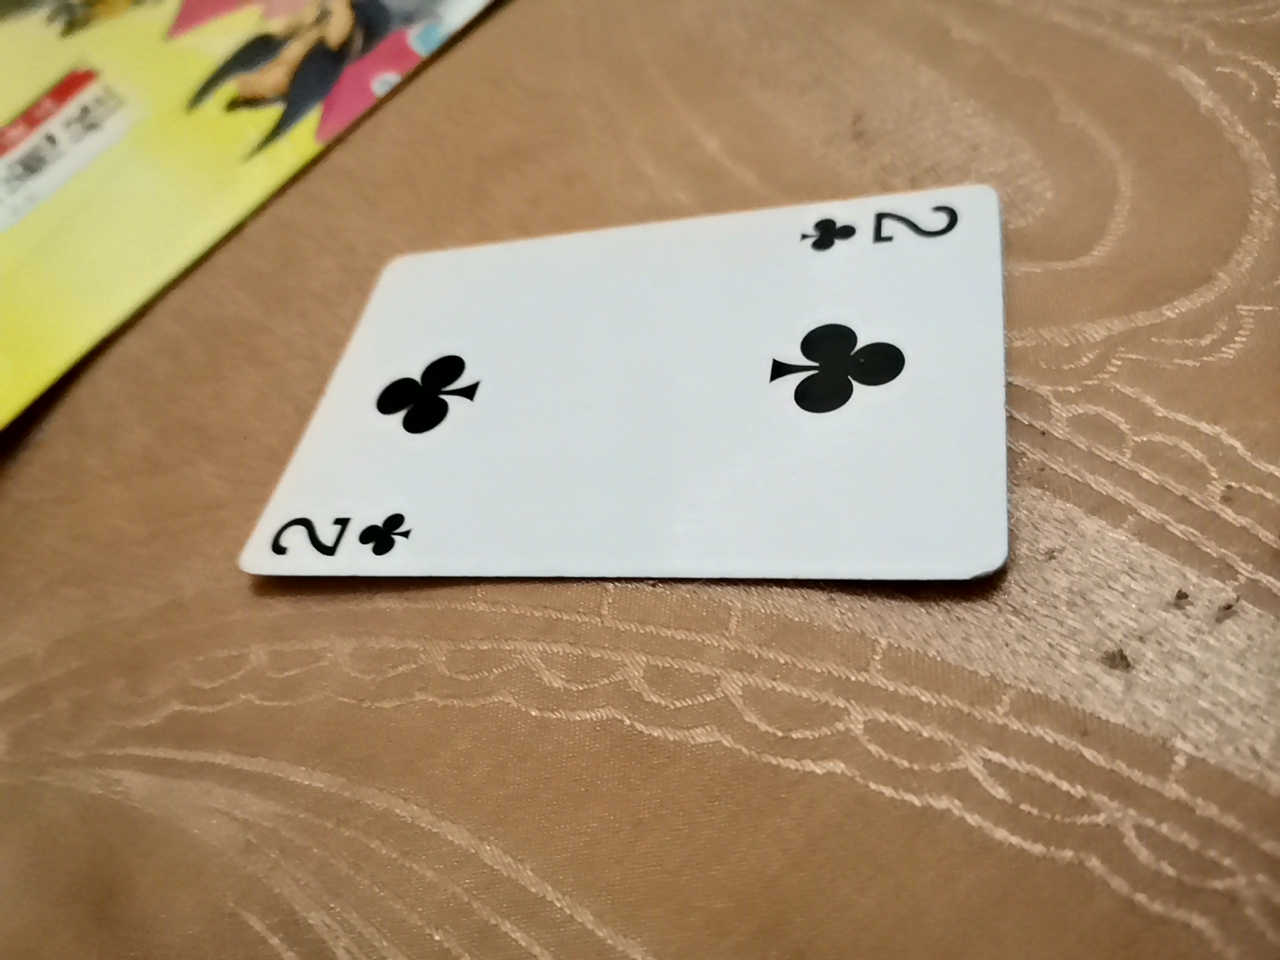mh 2: (226, 173, 990, 614)
